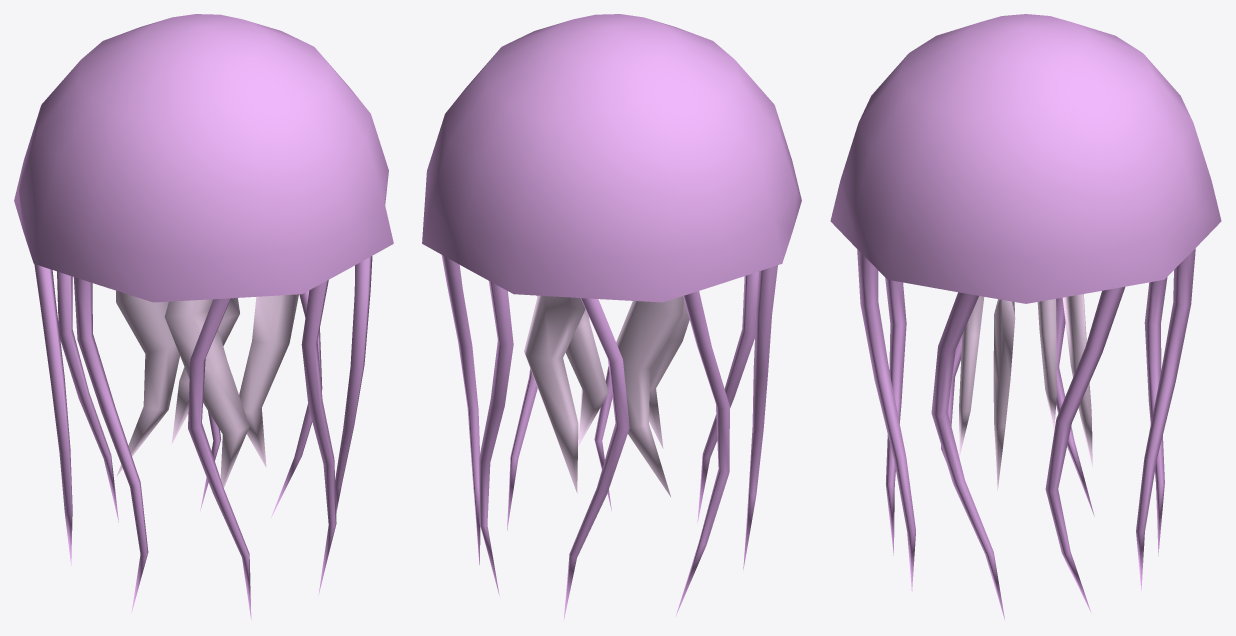
Rendered from Jellyfish.fbx.
The picture shows the model from 3 angles, left to right: view 1: azimuth 30°, elevation 25°; view 2: azimuth 150°, elevation 25°; view 3: azimuth 270°, elevation 25°; orthographic projection.
Visible parts, largest first — view 1: Jellyfish; view 2: Jellyfish; view 3: Jellyfish.
Boxes of the visible parts, box(x1,y1,x2,y2) form: Jellyfish: box(14, 14, 393, 619); Jellyfish: box(422, 14, 801, 620); Jellyfish: box(830, 14, 1221, 619).
Size of the model in its own units: 4.32 by 6.55 by 4.32.
